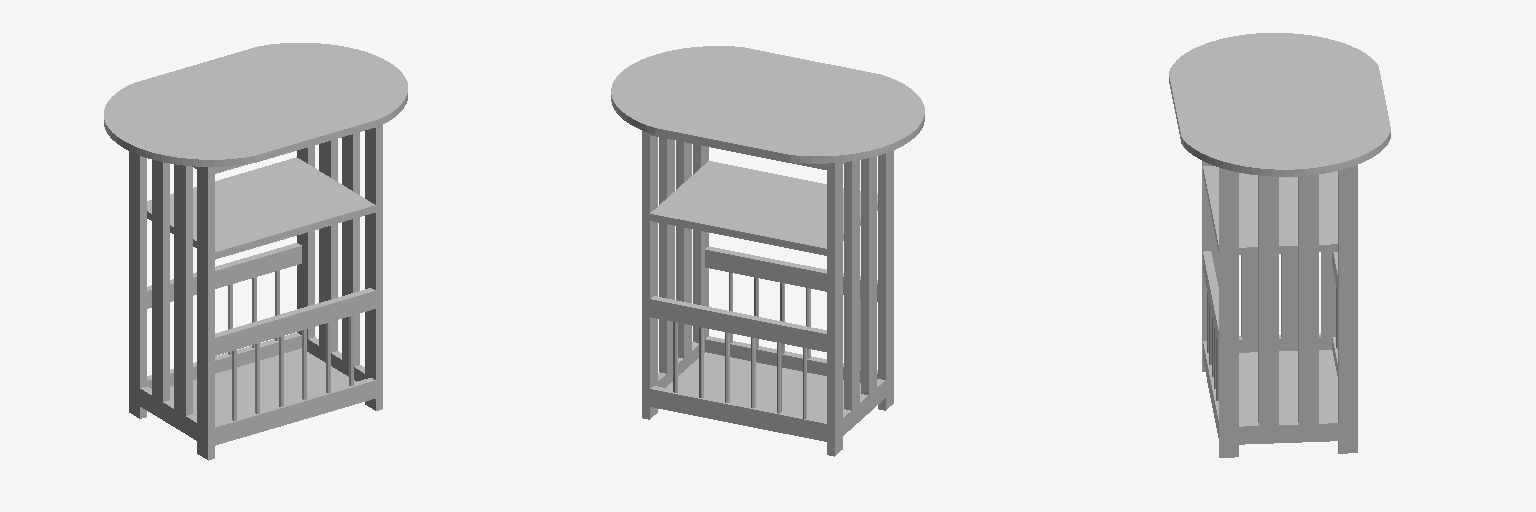
The model's file is Wooden_Table.obj.
3 views of the same model, side by side, from view 1: azimuth 30°, elevation 25°; view 2: azimuth 150°, elevation 25°; view 3: azimuth 270°, elevation 25° (orthographic).
Visible parts, largest first — view 1: Wooden_Table; view 2: Wooden_Table; view 3: Wooden_Table.
Boxes of the visible parts, x1=… form: Wooden_Table: x1=104, y1=43, x2=407, y2=460; Wooden_Table: x1=611, y1=46, x2=924, y2=456; Wooden_Table: x1=1169, y1=33, x2=1390, y2=457.
Size of the model in its own units: 34.54 by 36.41 by 23.71.